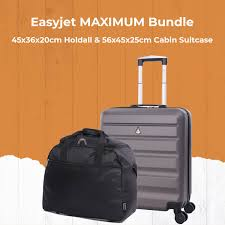suitcase: (97, 55, 195, 222)
